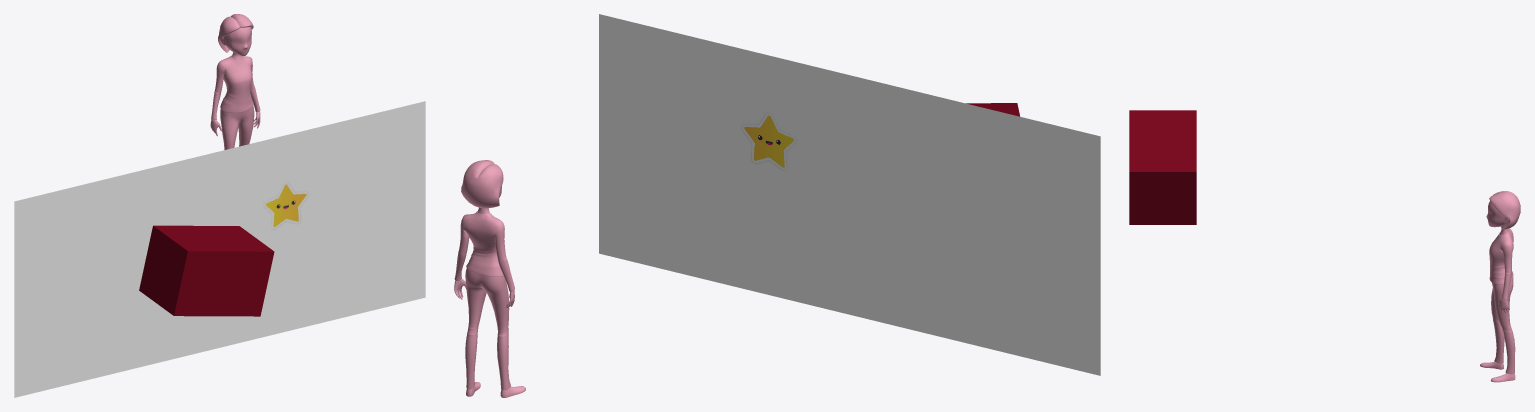
The picture shows the model from 3 angles, left to right: view 1: azimuth 30°, elevation 25°; view 2: azimuth 150°, elevation 25°; view 3: azimuth 270°, elevation 25°; orthographic projection. The views are drawn at different scales.
Visible parts, largest first — view 1: root (×3); view 2: root (×2); view 3: root (×2).
Part boxes in pixels (<box>): root (×3): <box>14,14,425,397</box>; root (×2): <box>454,14,1100,397</box>; root (×2): <box>1129,110,1520,382</box>.
Bounding box in the file's own units: 0.512 × 0.2336 × 0.4364.
3 materials, 2 textured.
